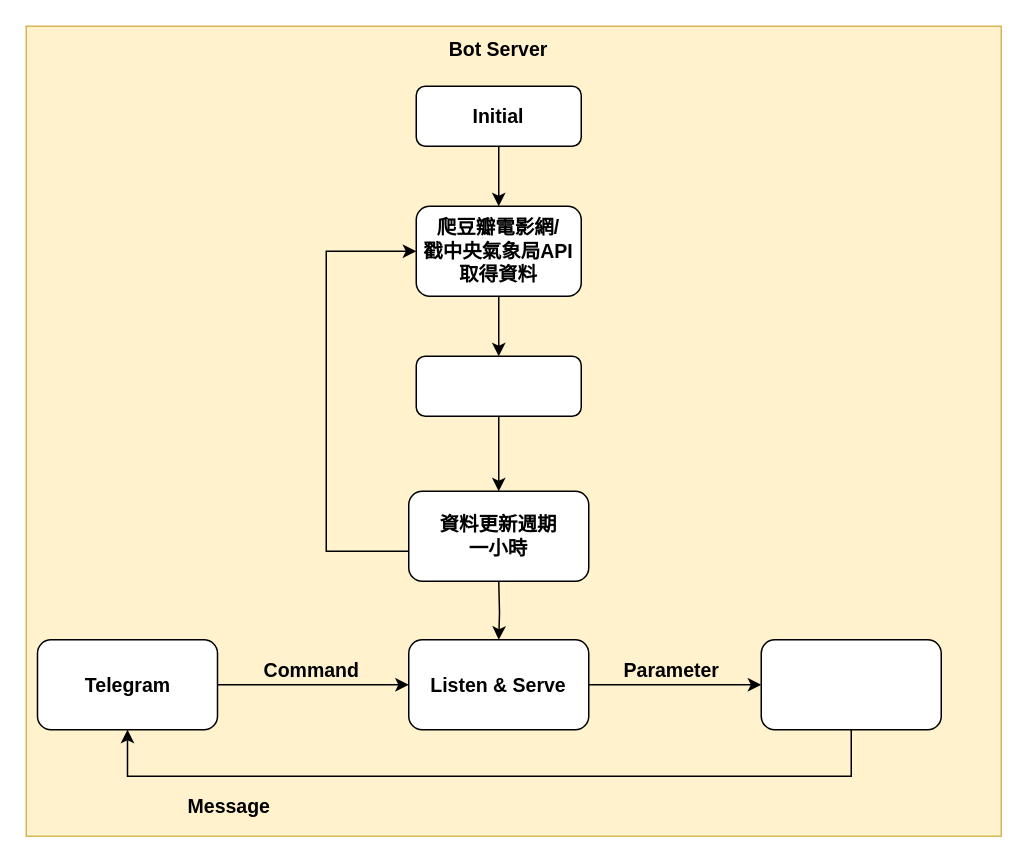
The diagram is 1028 pixels wide and 863 high, and some of its shapes have lost their labels. Each missing label, with the centre of its shape:
存入DB已備查詢: the point at 498,385
根據帶入的指令資料查詢DB: the point at 850,684
